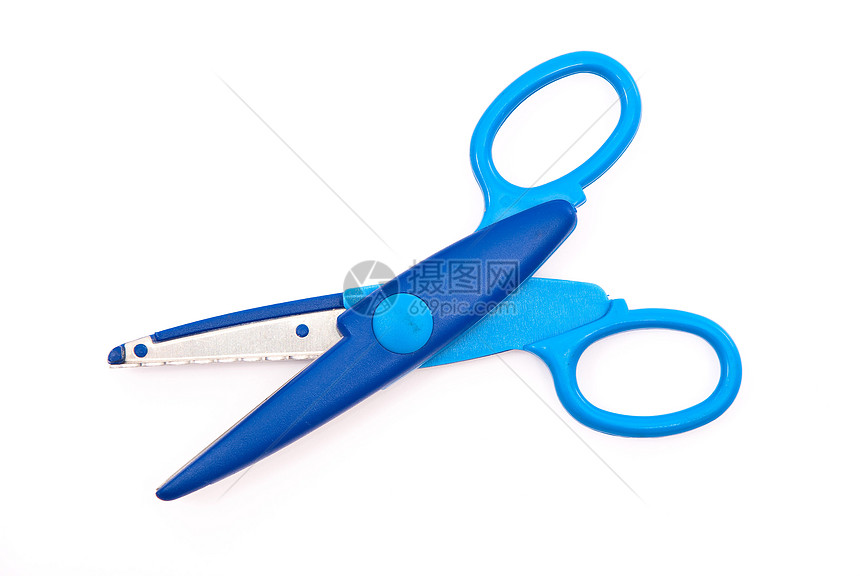scissors: (77, 45, 774, 534)
